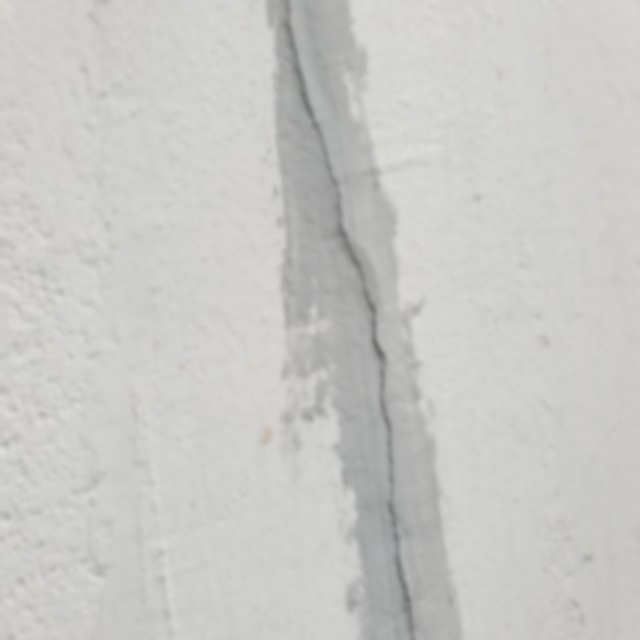SurfaceCrack: (279, 1, 460, 640)
